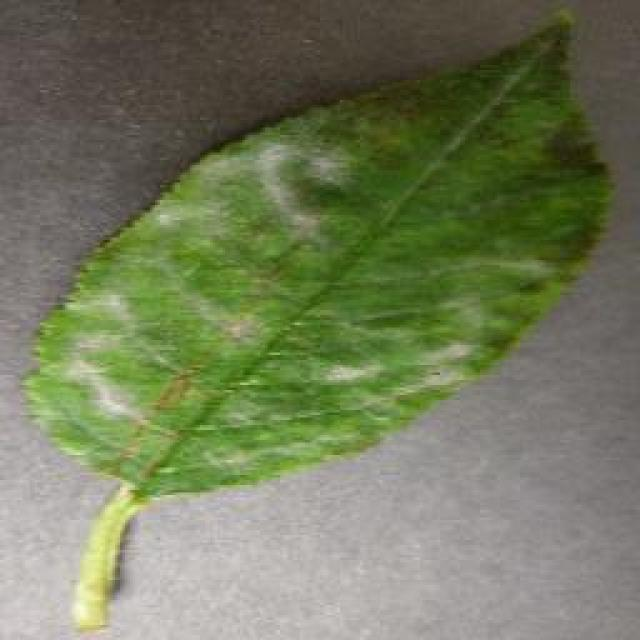Cherry___Powdery_mildew: (5, 10, 625, 635)
